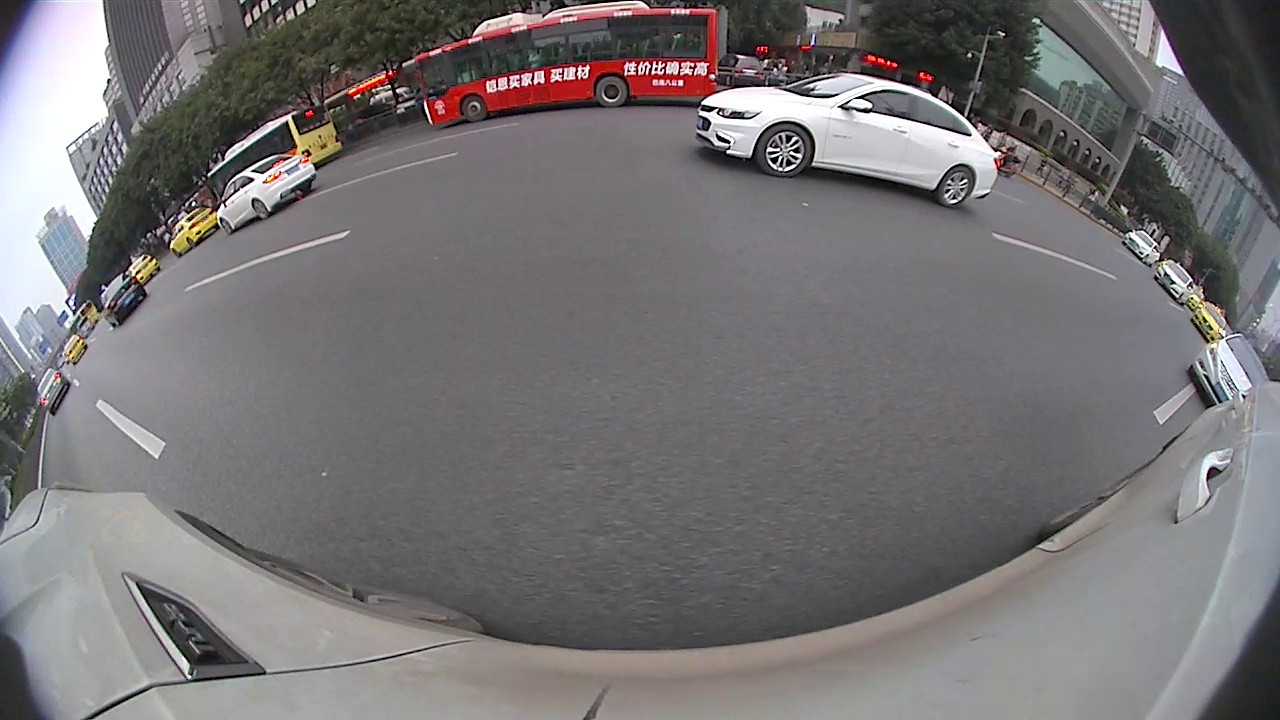bus: (415, 1, 717, 126), (206, 103, 344, 196)
car: (694, 72, 1004, 208), (217, 152, 318, 236), (1187, 333, 1275, 410), (99, 272, 149, 329), (169, 208, 221, 259), (1153, 263, 1194, 307), (36, 367, 71, 417), (1121, 230, 1161, 267)
front: (757, 124, 813, 176), (461, 98, 485, 120), (220, 218, 231, 233)
rear: (938, 165, 974, 205), (596, 77, 626, 106), (252, 199, 267, 216)
